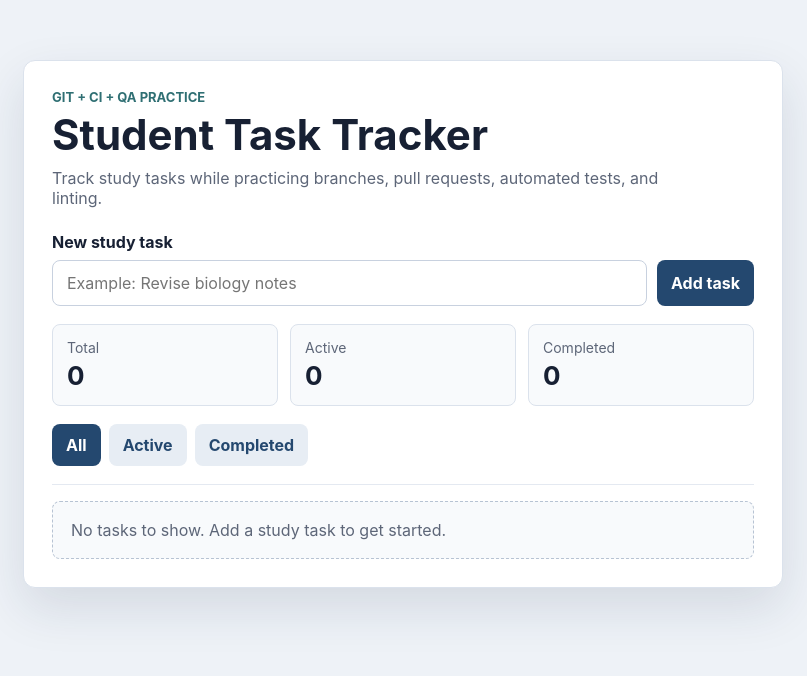
Scenario: Student Task Tracker › filters active and completed tasks
In the field labelled "New study task": x=350, y=282 [52,260,647,306], type "Finish math homework"
Click the button "Add task": x=706, y=282 [657,260,754,306]
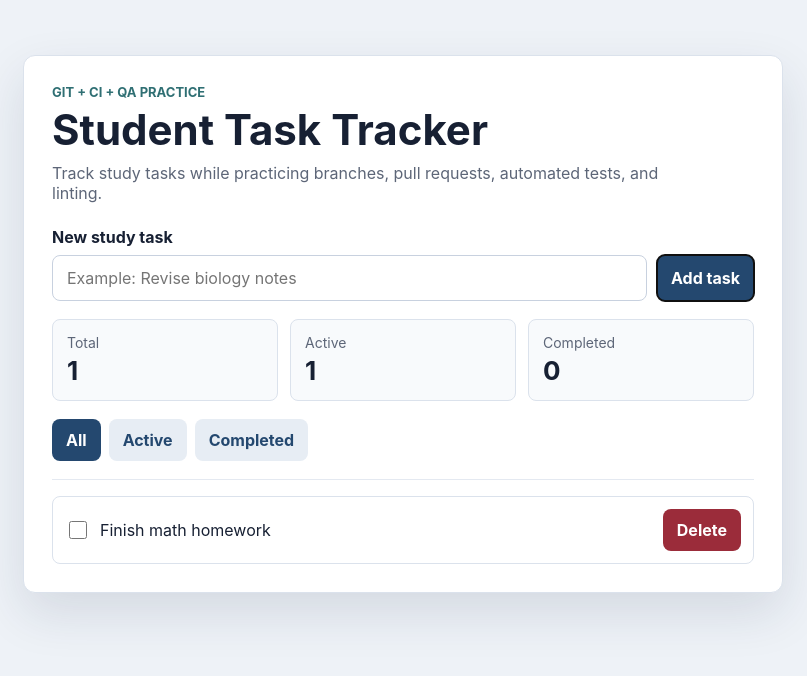
In the field labelled "New study task": x=350, y=278 [52,254,647,300], type "Submit science notes"
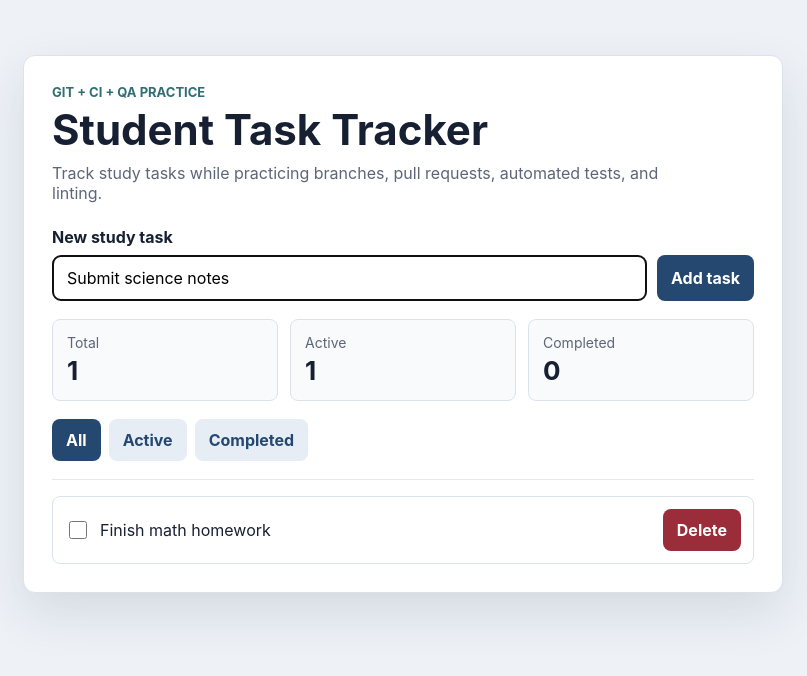
Click the button "Add task": x=706, y=278 [657,254,754,300]
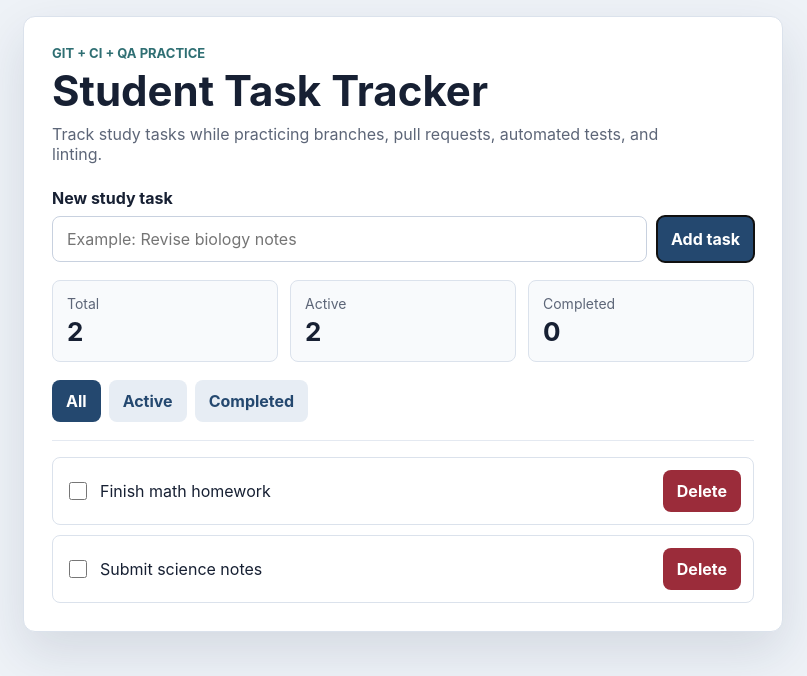
Click the checkbox labelled "Finish math homework": x=78, y=490 [69,482,87,500]
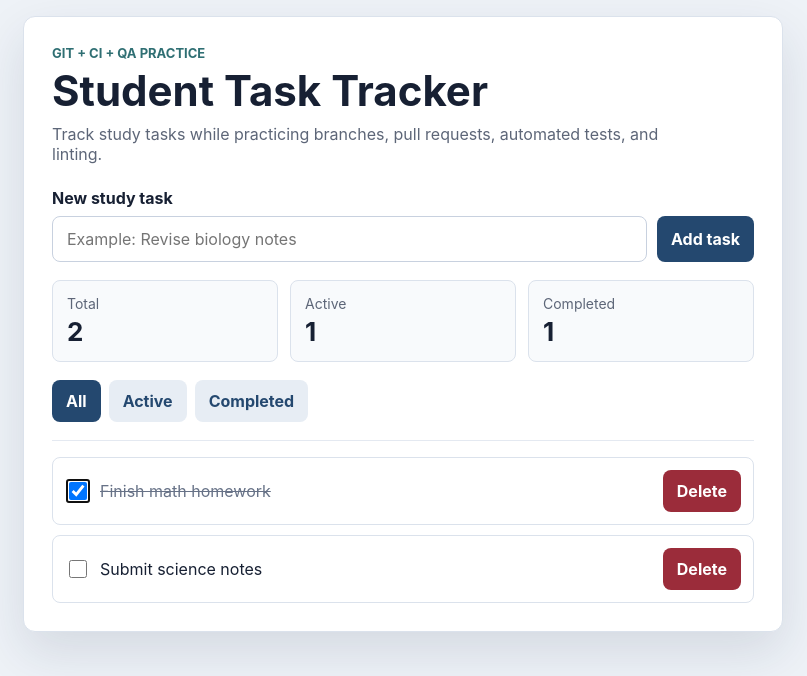
Click the button "Active": x=148, y=400 [109,380,187,422]
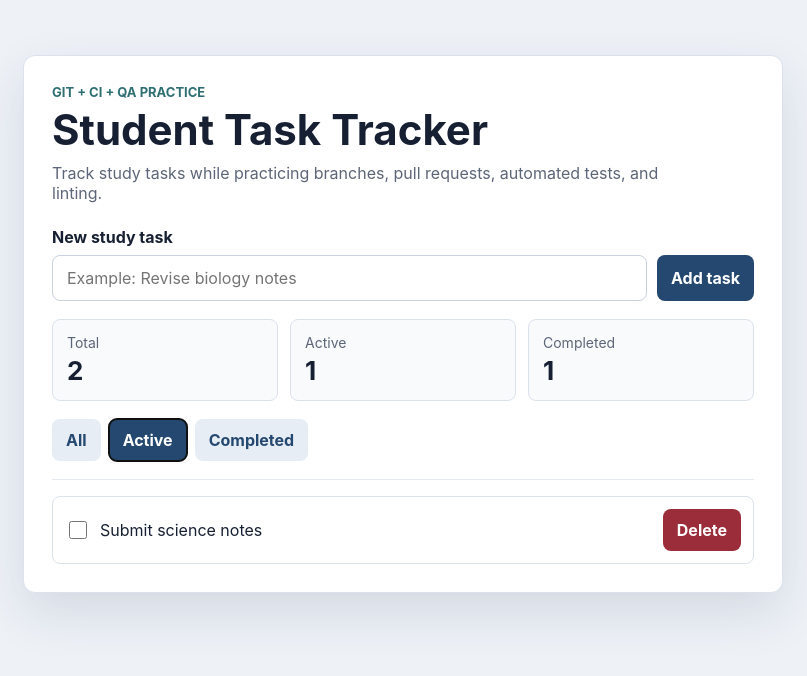
Expected: the text "Submit science notes" is shown, [100,520,262,540]
Expected: the text "Finish math homework" is gone
Click the button "Completed": x=251, y=440 [195,418,308,460]
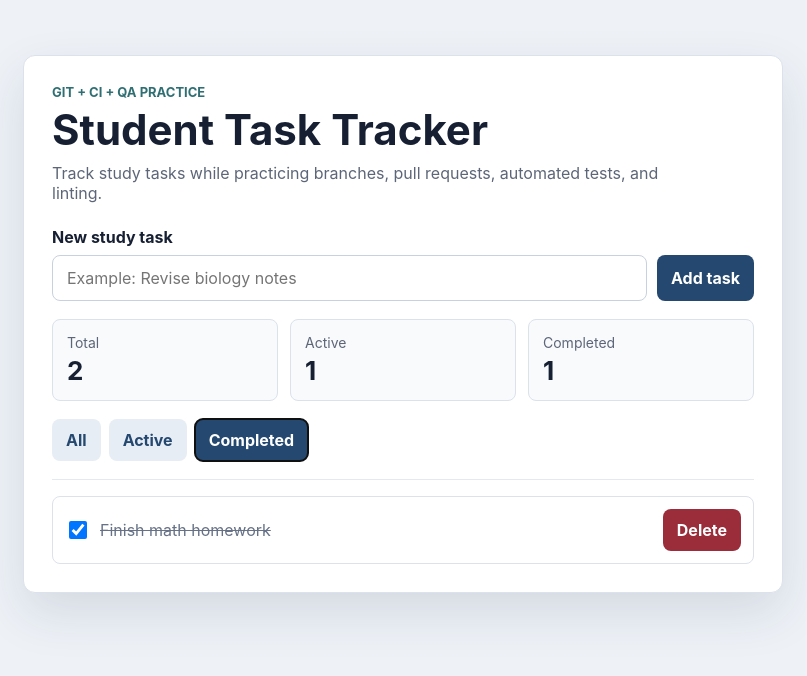
Expected: the text "Finish math homework" is shown, [100,520,271,540]
Expected: the text "Submit science notes" is gone
